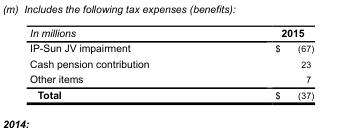table: (29, 28, 313, 101)
table column: (29, 28, 211, 101), (211, 28, 313, 101)
table column header: (29, 28, 313, 41)
table row: (29, 41, 313, 57), (29, 72, 313, 88), (29, 57, 313, 72), (29, 28, 313, 41), (29, 88, 313, 101)
